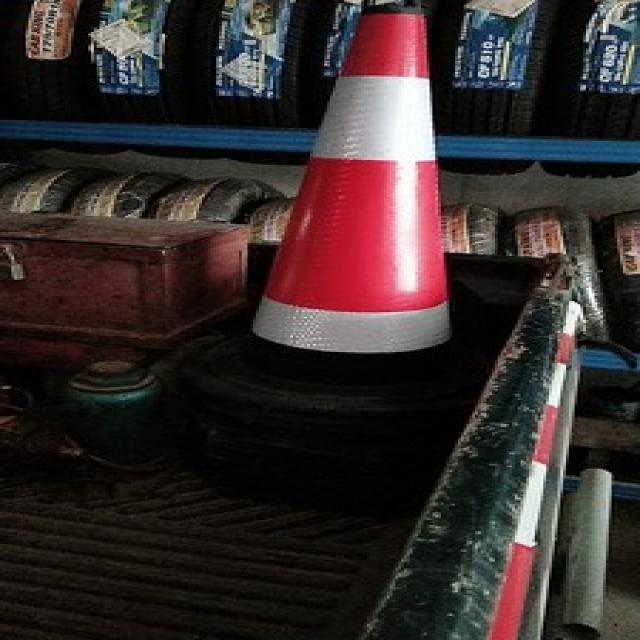reflective_cone: (185, 10, 498, 412)
